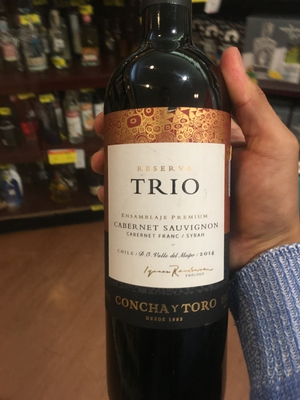trio cabernet sauvignon: (97, 11, 242, 400)
